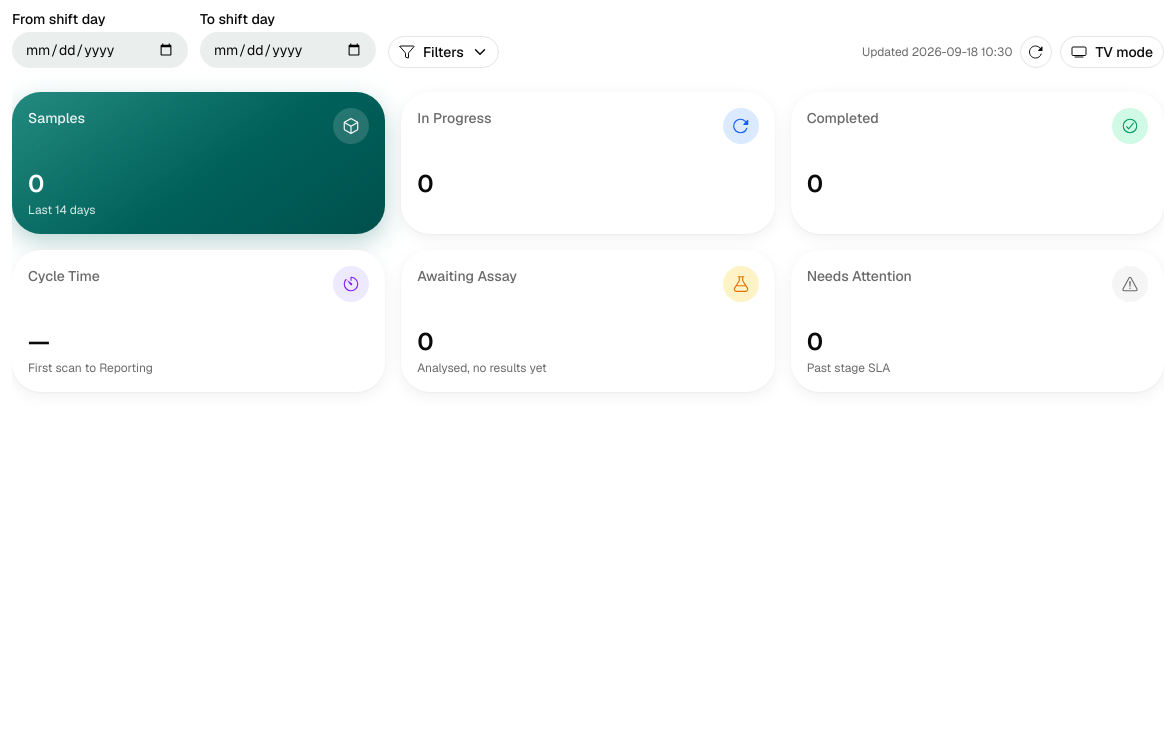
it: dashboard filters › resolves every label in en
The image size is (1164, 732).
Click the button "Filters": {"x": 443, "y": 52} [388,36,499,68]
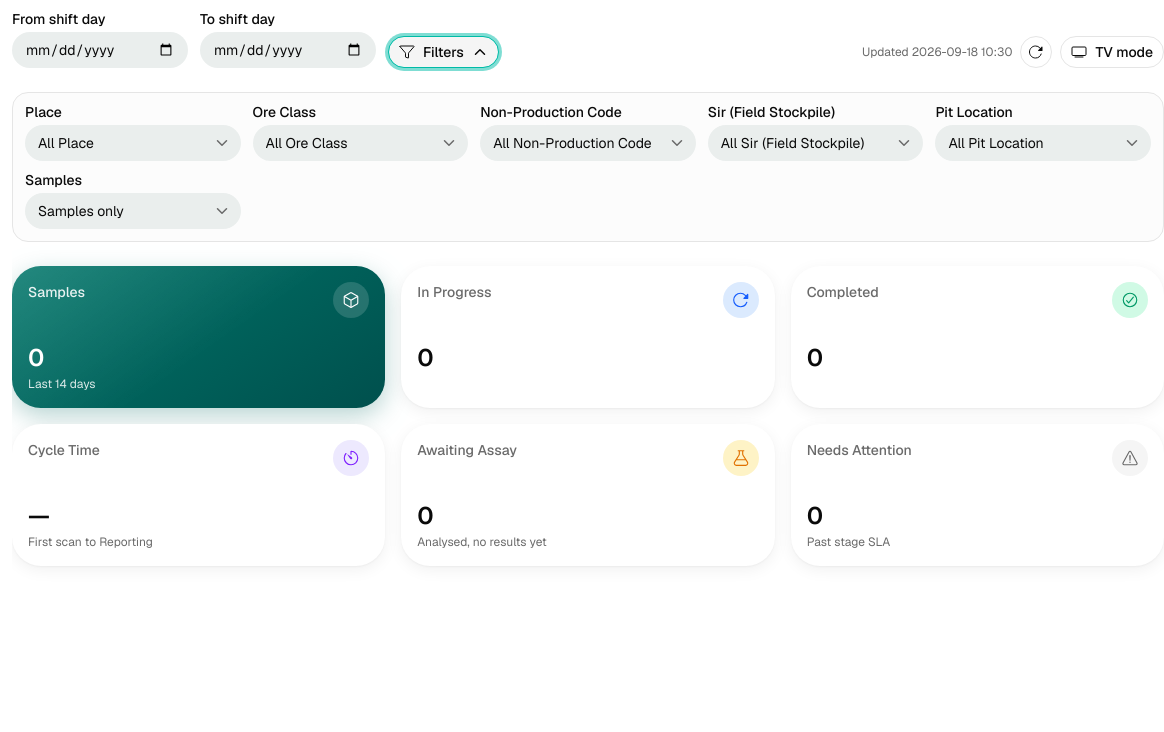
Result: the dropdown labelled "All Place" is shown at [25,125,241,161]
